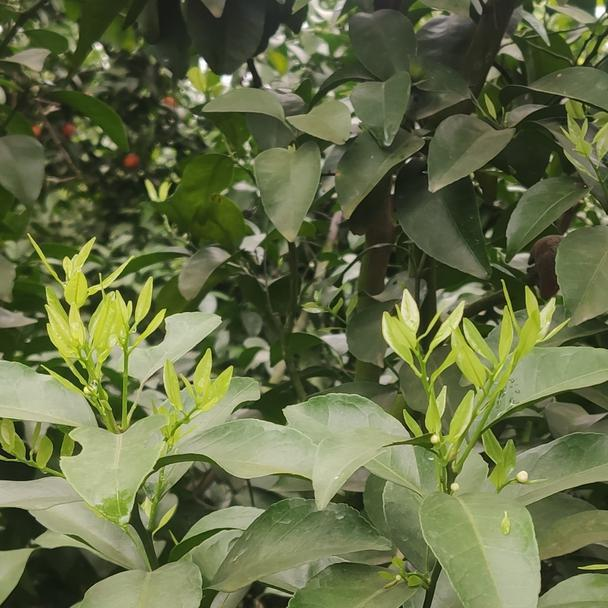shoot: (385, 287, 472, 433), (476, 289, 562, 434), (30, 222, 125, 329), (46, 307, 119, 408), (154, 363, 232, 451), (2, 413, 80, 490), (102, 283, 166, 354)
